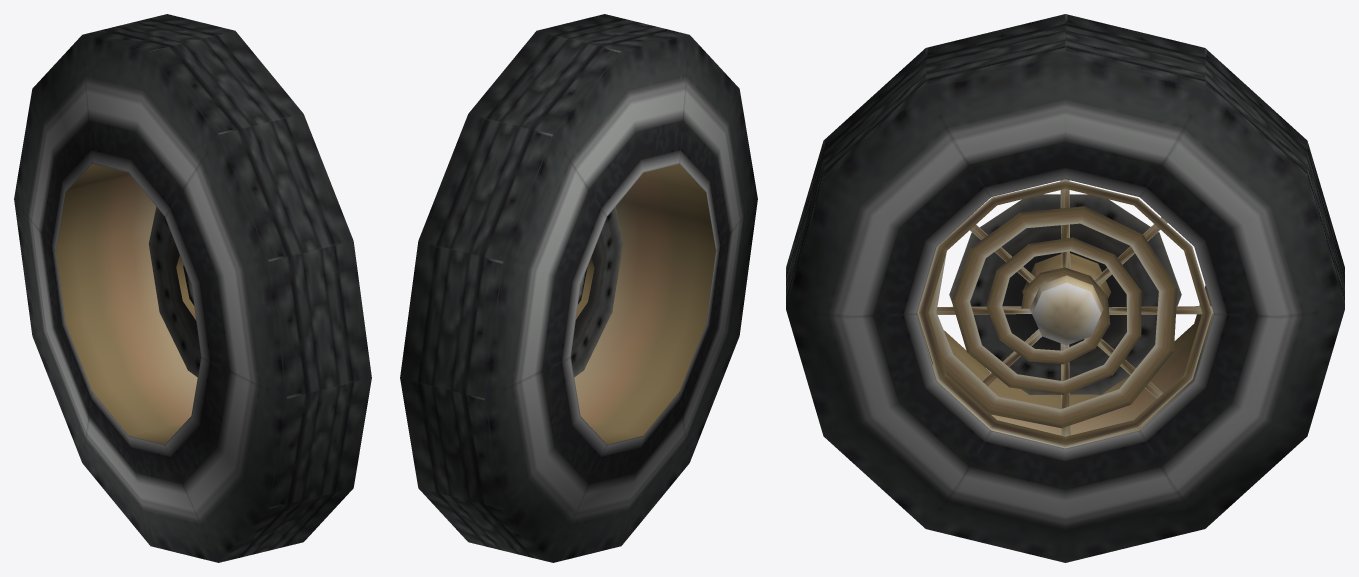
The model's file is wheel_lr5.glb.
The picture shows the model from 3 angles, left to right: view 1: azimuth 30°, elevation 25°; view 2: azimuth 150°, elevation 25°; view 3: azimuth 270°, elevation 25°; orthographic projection. The views are drawn at different scales.
Visible parts, largest first — view 1: wheel_lr5; view 2: wheel_lr5; view 3: wheel_lr5.
Part boxes in pixels (x1=…): wheel_lr5: x1=14, y1=14, x2=371, y2=562; wheel_lr5: x1=400, y1=14, x2=757, y2=562; wheel_lr5: x1=786, y1=14, x2=1344, y2=562.
Size of the model in its own units: 0.2786 by 0.9843 by 0.9843.
2 materials, 2 textured.
